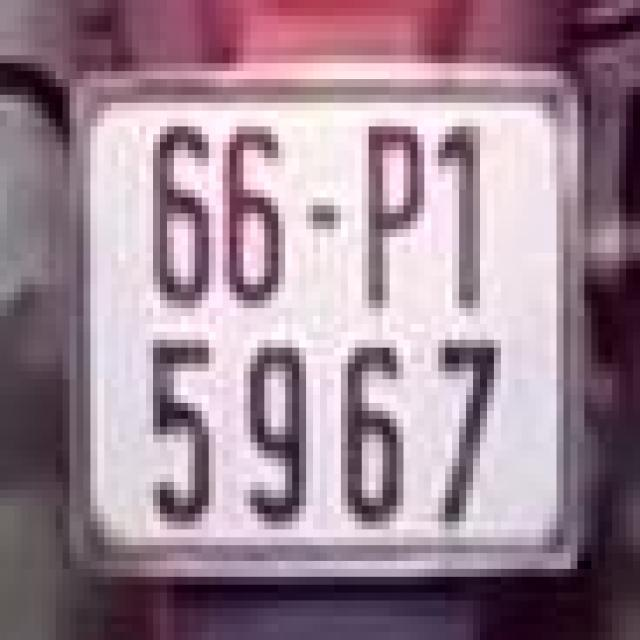1: (431, 95, 494, 316)
5: (125, 320, 223, 533)
6: (132, 115, 216, 320), (330, 332, 414, 537), (212, 119, 296, 308)
7: (421, 336, 511, 533)
9: (237, 336, 320, 525)
P: (355, 107, 431, 328)
